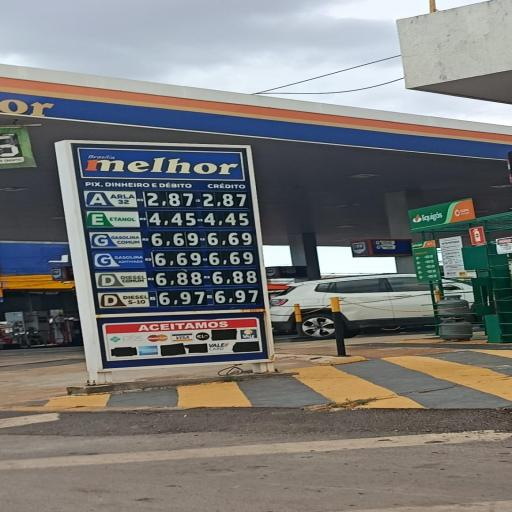ETANOL: (87, 211, 141, 227)
GASOLINA AD: (92, 251, 145, 270)
GASOLINA C: (90, 232, 141, 248)
S10: (97, 291, 151, 309)
S500: (95, 272, 149, 287)
placa: (83, 209, 207, 311)
preco: (155, 270, 204, 287), (150, 231, 201, 247), (157, 289, 205, 306), (153, 251, 202, 267), (149, 212, 199, 227)
